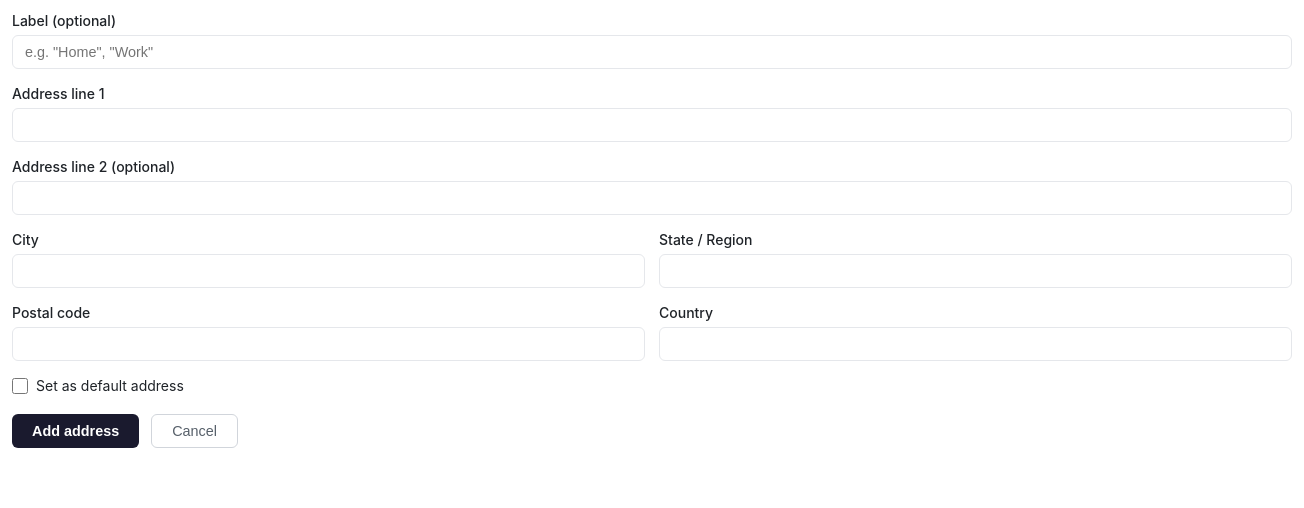
Test: AddressForm validation › shows error when state is blank
Step 1. Type "123 Main St" into the field labelled "Address line 1" → (652, 125), box [12,108,1292,142]
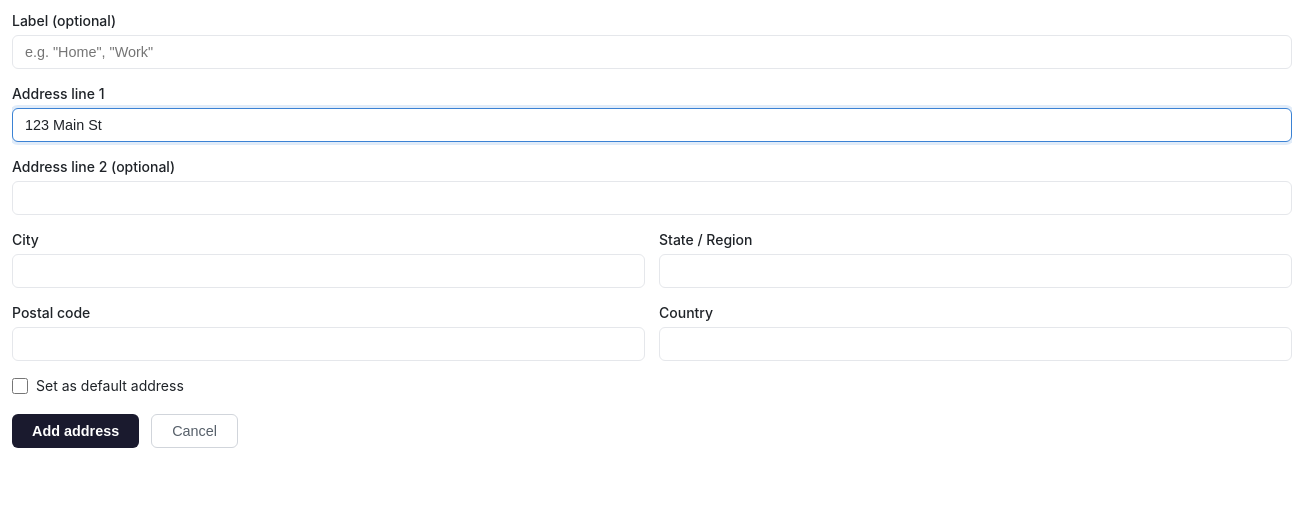
Step 2. Type "Springfield" into the field labelled "City" → (328, 271), box [12,254,645,288]
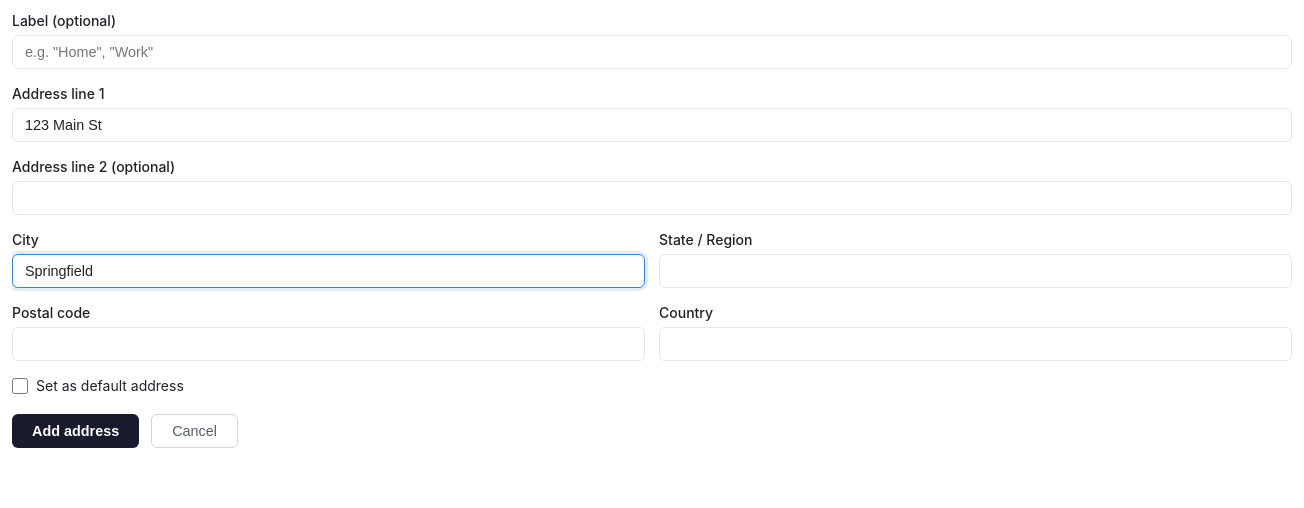
Step 3. Click the button "Add address" → (76, 431), box [12,414,139,448]
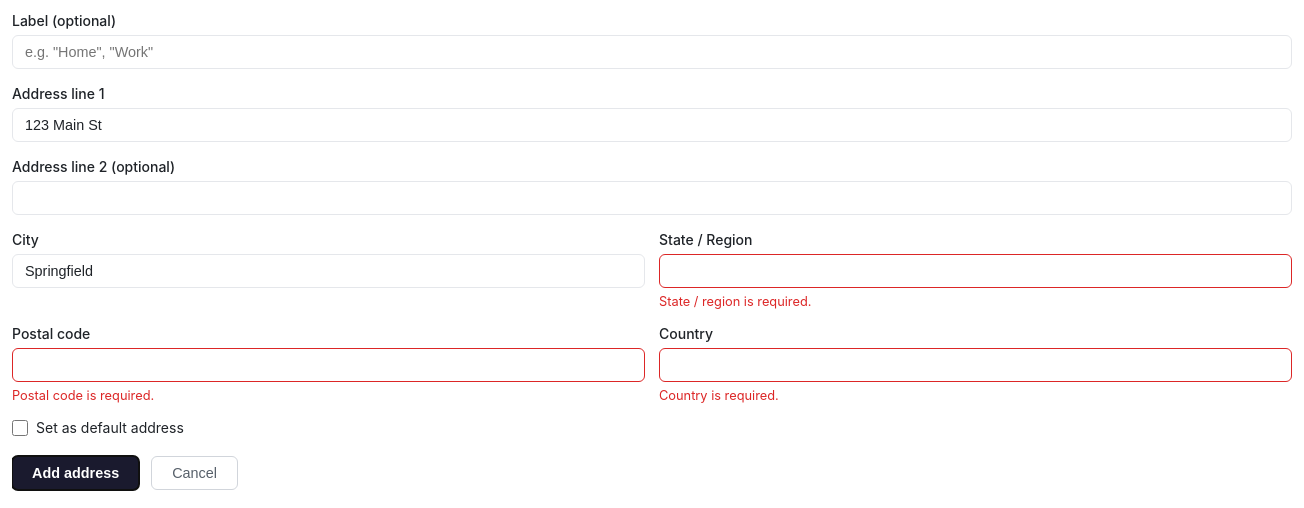
Expected: the text "State / region is required." is shown, [659,294,811,309]
